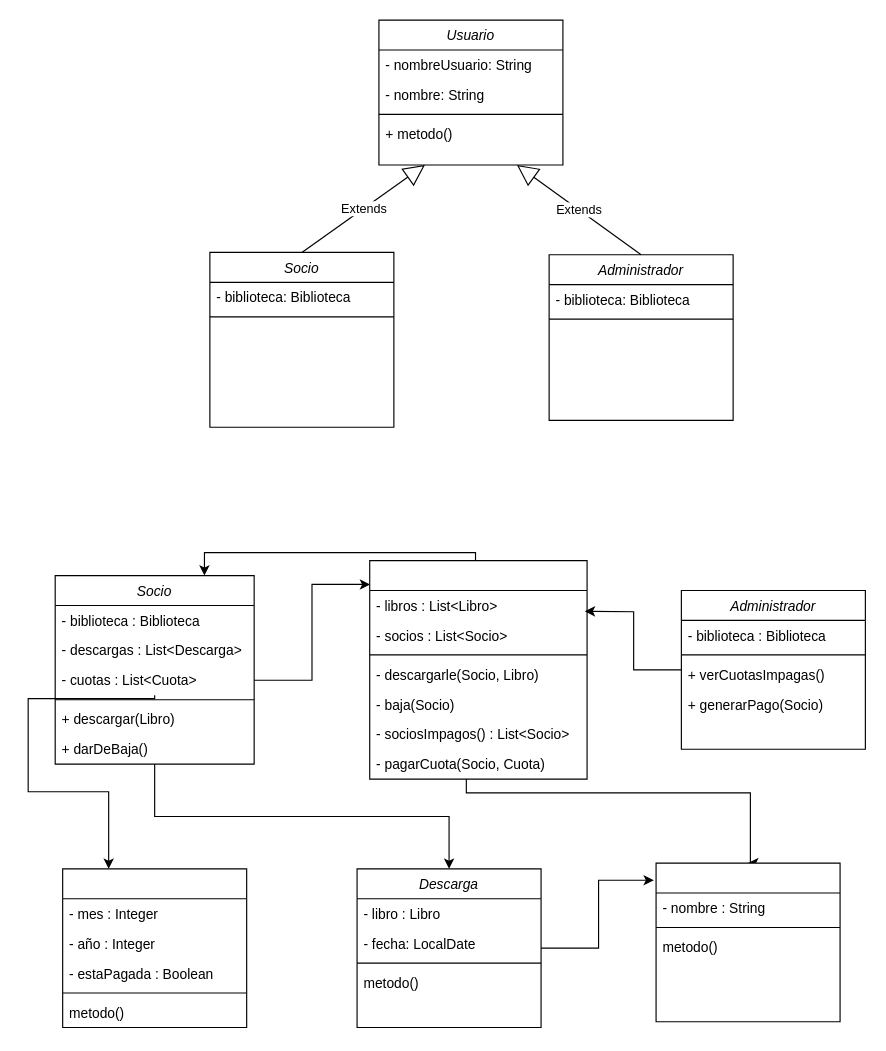
Some shapes in this 886 by 1051 pixel diagram are drawn without their labels. The shapes that lost their labels are listed below. From the top down, each one's box as (x1, y1, x2, y2) in pixels, then its label:
(369, 559, 587, 779): Biblioteca
(62, 868, 247, 1028): Cuota
(655, 862, 840, 1022): Libro
